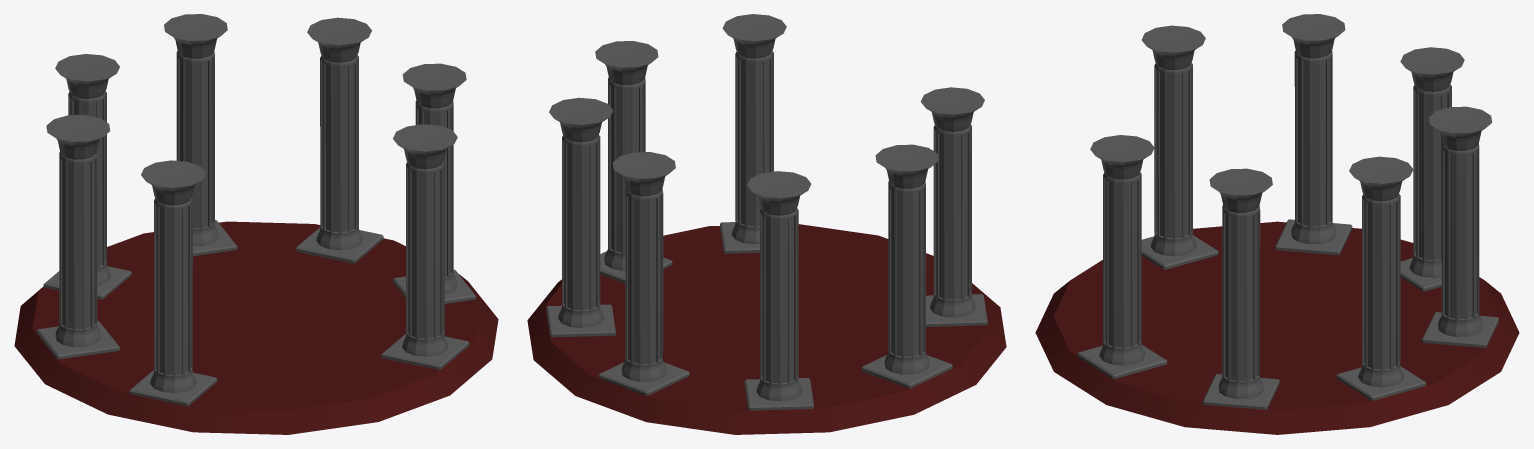
File: Dark_Gazebo.fbx
3 views of the same model, side by side, from view 1: azimuth 30°, elevation 25°; view 2: azimuth 150°, elevation 25°; view 3: azimuth 270°, elevation 25° (orthographic).
Visible parts, largest first — view 1: pCylinder40; view 2: pCylinder40; view 3: pCylinder40.
Boxes of the visible parts, left/top/right/bottom form: pCylinder40: left=14, top=14, right=498, bottom=434; pCylinder40: left=527, top=14, right=1006, bottom=434; pCylinder40: left=1035, top=14, right=1519, bottom=434.
Size of the model in its own units: 133 by 69.02 by 133.
